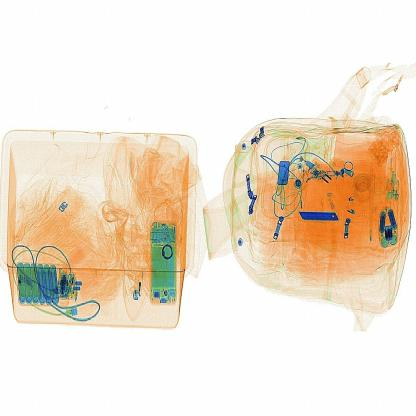pliers: (296, 204, 343, 230)
